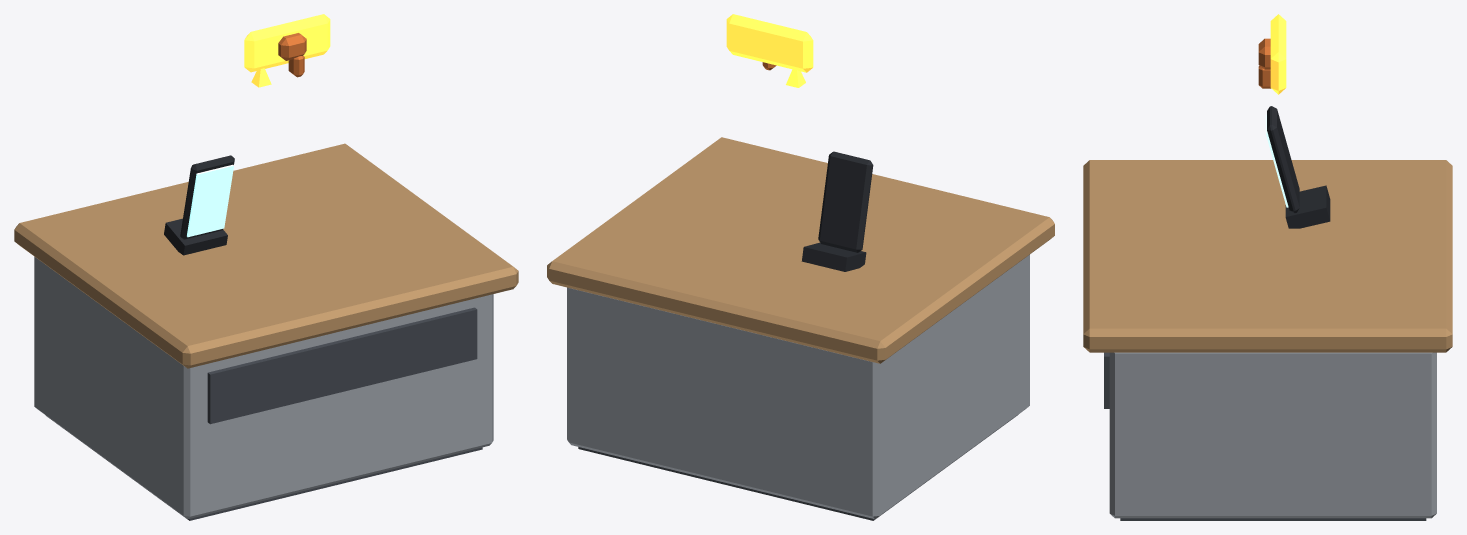
File: quickreply_p2_3.glb
3 views of the same model, side by side, from view 1: azimuth 30°, elevation 25°; view 2: azimuth 150°, elevation 25°; view 3: azimuth 270°, elevation 25° (orthographic). The views are drawn at different scales.
Visible parts, largest first — view 1: quickreply_p2_3_mesh_Desk, quickreply_p2_3_mesh; view 2: quickreply_p2_3_mesh_Desk, quickreply_p2_3_mesh; view 3: quickreply_p2_3_mesh_Desk, quickreply_p2_3_mesh.
Boxes of the visible parts, x1,y1,x2,y2 form: quickreply_p2_3_mesh_Desk: (14, 143, 518, 520); quickreply_p2_3_mesh: (164, 14, 330, 255); quickreply_p2_3_mesh_Desk: (547, 137, 1054, 520); quickreply_p2_3_mesh: (726, 14, 873, 271); quickreply_p2_3_mesh_Desk: (1083, 160, 1452, 520); quickreply_p2_3_mesh: (1258, 14, 1330, 228).
Bounding box in the file's own units: 0.78 × 0.89 × 0.7.
